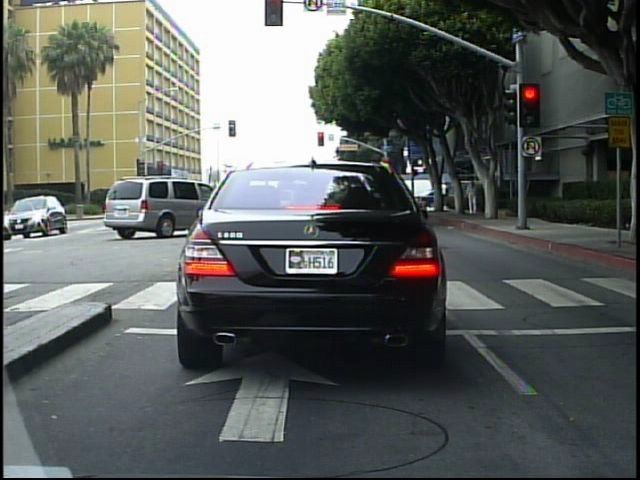person: (631, 166, 639, 284), (633, 166, 639, 280), (465, 180, 480, 219), (437, 179, 453, 214)
